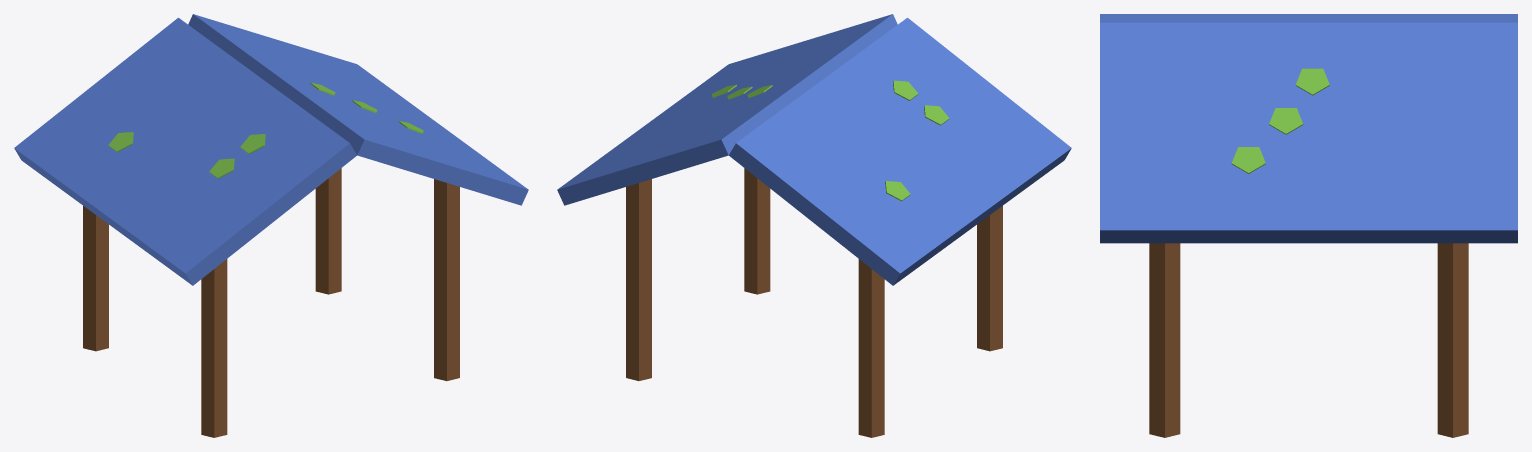
The model's file is building-roof.glb.
3 views of the same model, side by side, from view 1: azimuth 30°, elevation 25°; view 2: azimuth 150°, elevation 25°; view 3: azimuth 270°, elevation 25° (orthographic). The views are drawn at different scales.
Visible parts, largest first — view 1: building-roof; view 2: building-roof; view 3: building-roof.
Part boxes in pixels (<box>): building-roof: <box>14,14,528,437</box>; building-roof: <box>557,14,1071,437</box>; building-roof: <box>1100,14,1517,437</box>.
Bounding box in the file's own units: 1.34 × 1.05 × 1.16.
1 material, 1 textured.
